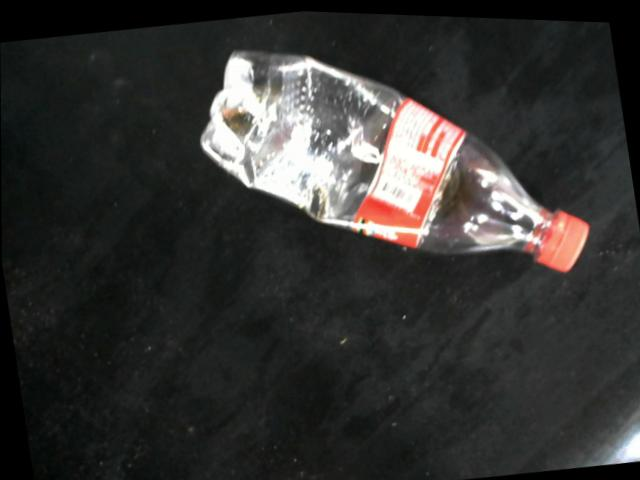bottle: (200, 47, 592, 271)
